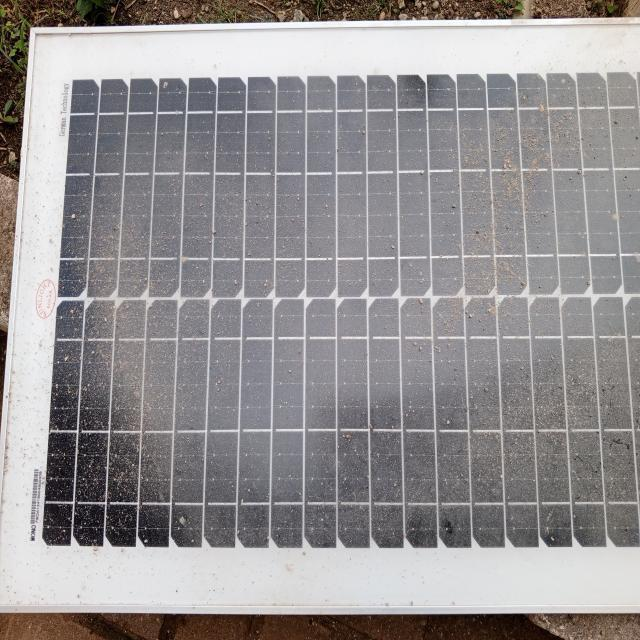Anomaly Solar Panel: (39, 56, 639, 572)
Surface Contaminant: (55, 71, 639, 558)
